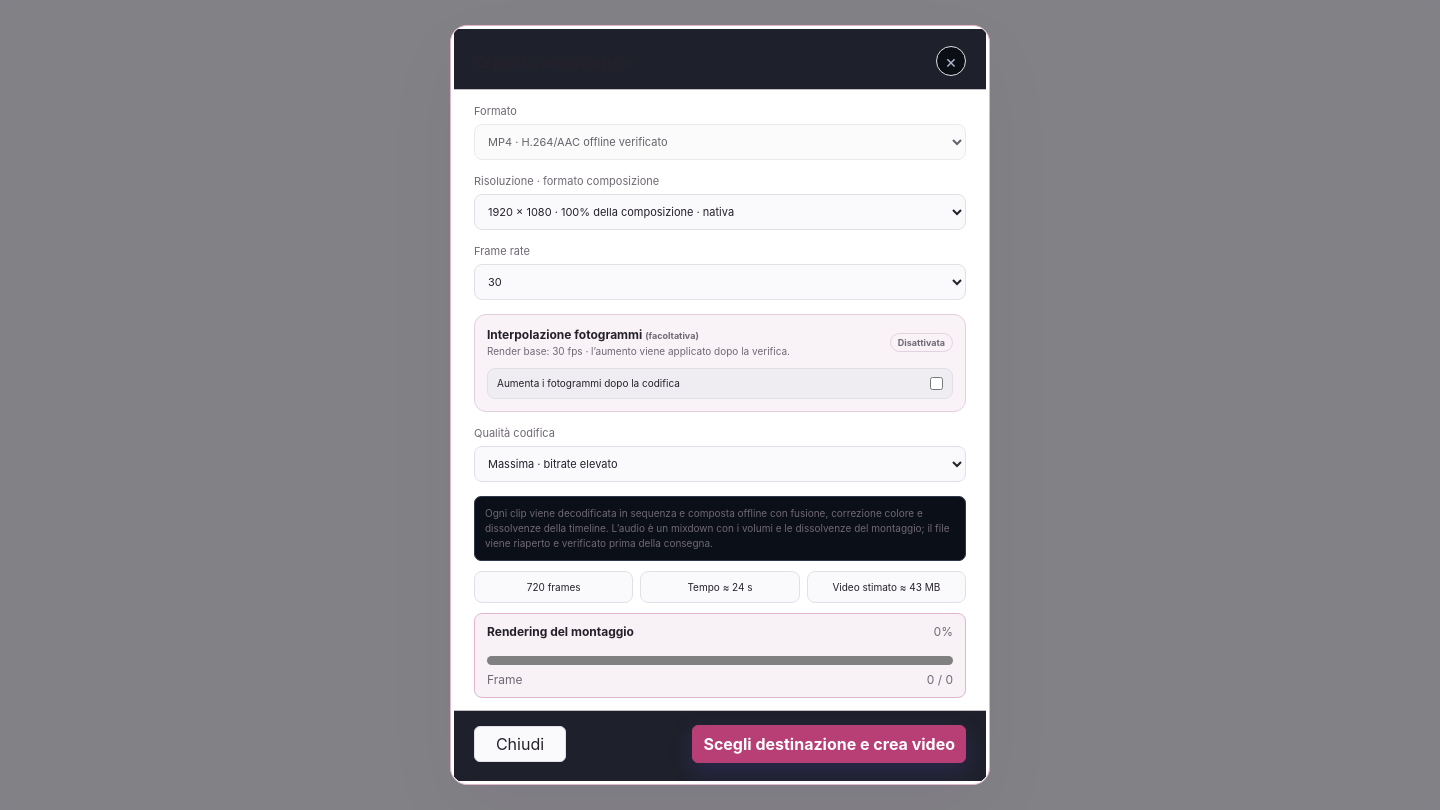
Test: ExportDialog › montaggio Video Editor › resta utilizzabile anche al frame rate di render massimo
Select "120" in the dropdown labelled "Frame rate" at (720, 282), box [474,264,966,300]
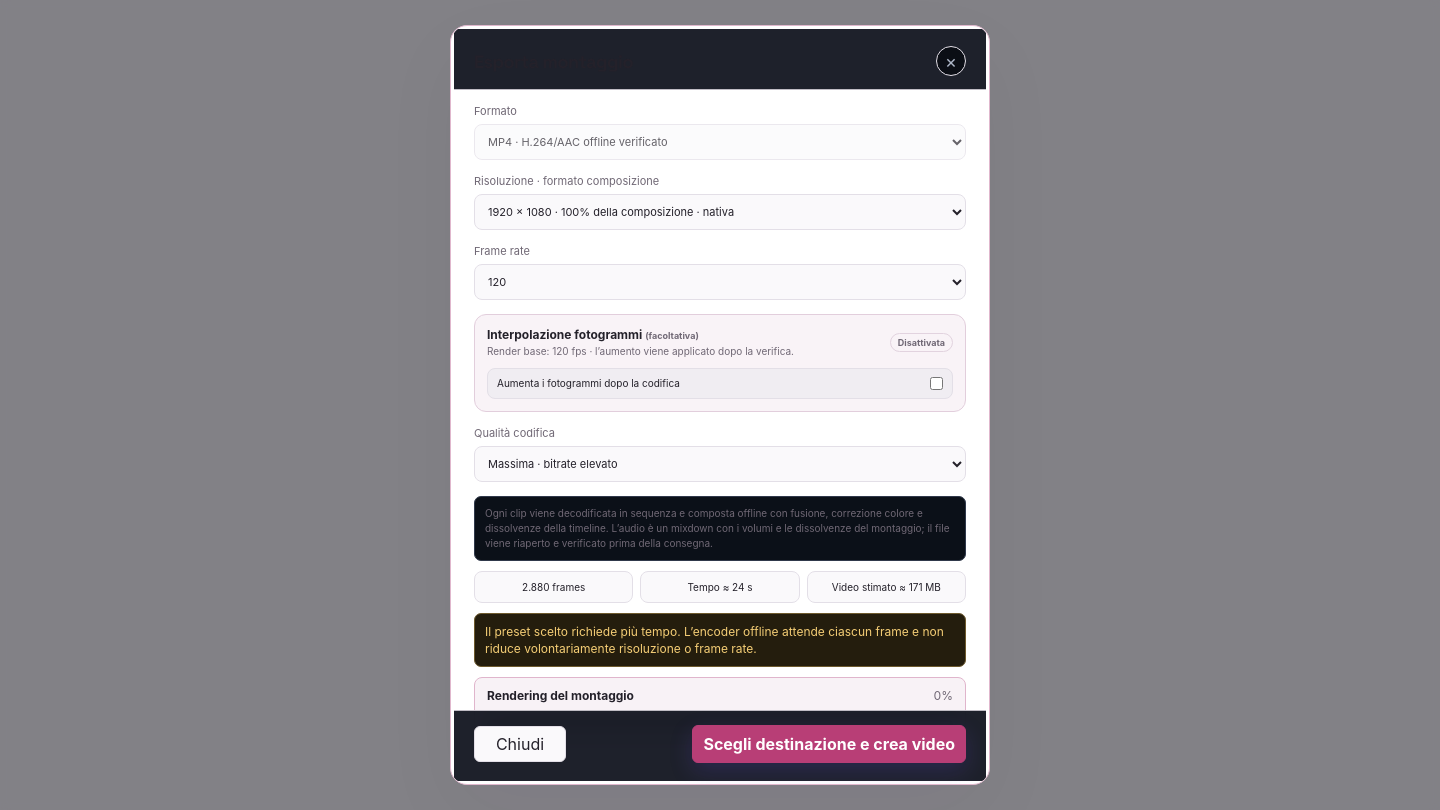
Click the checkbox named "Attiva interpolazione dei fotogrammi" at (936, 383), box [930,376,943,390]
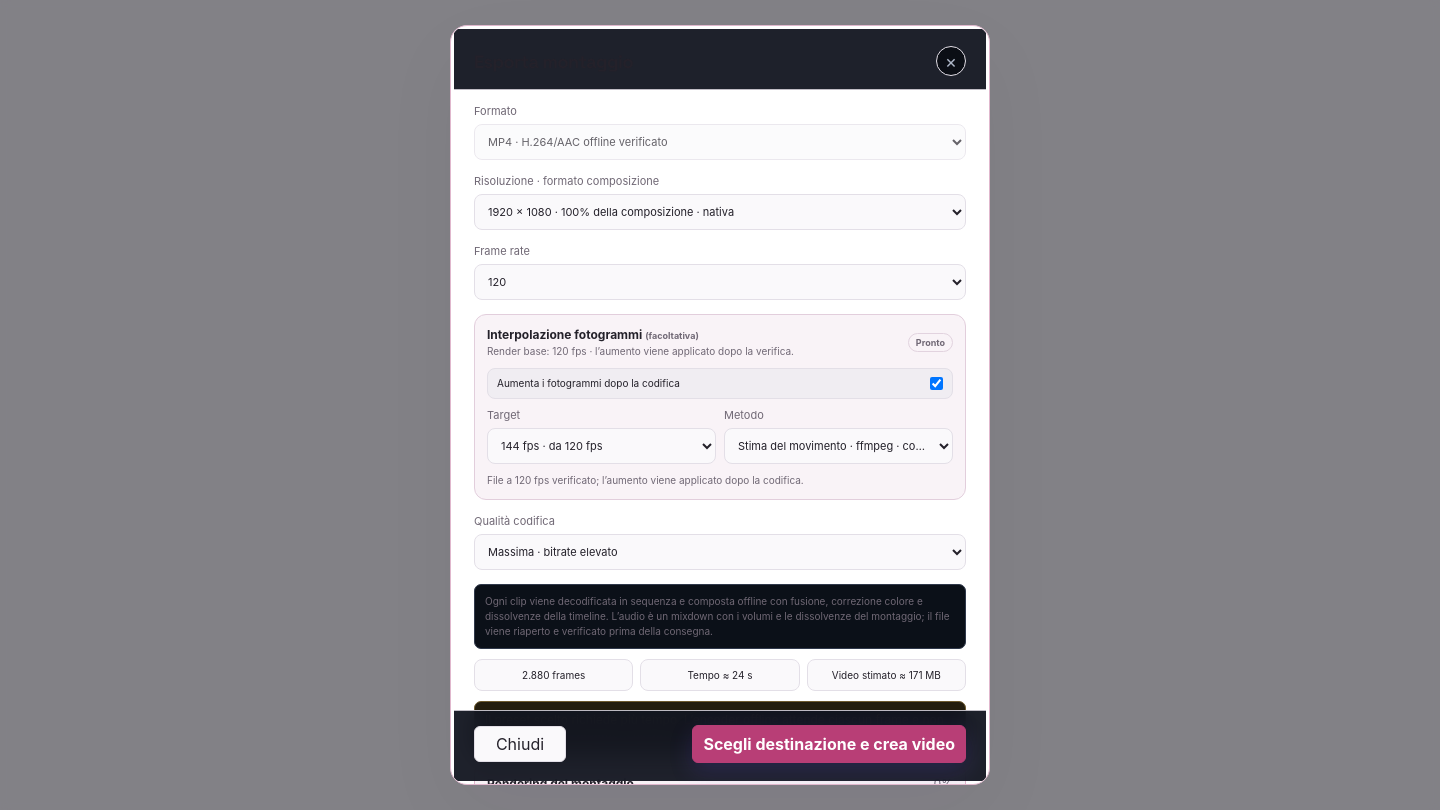
Check: the dropdown named "Frame rate interpolato" shows "144 fps · da 120 fps", box [487,428,716,464]
